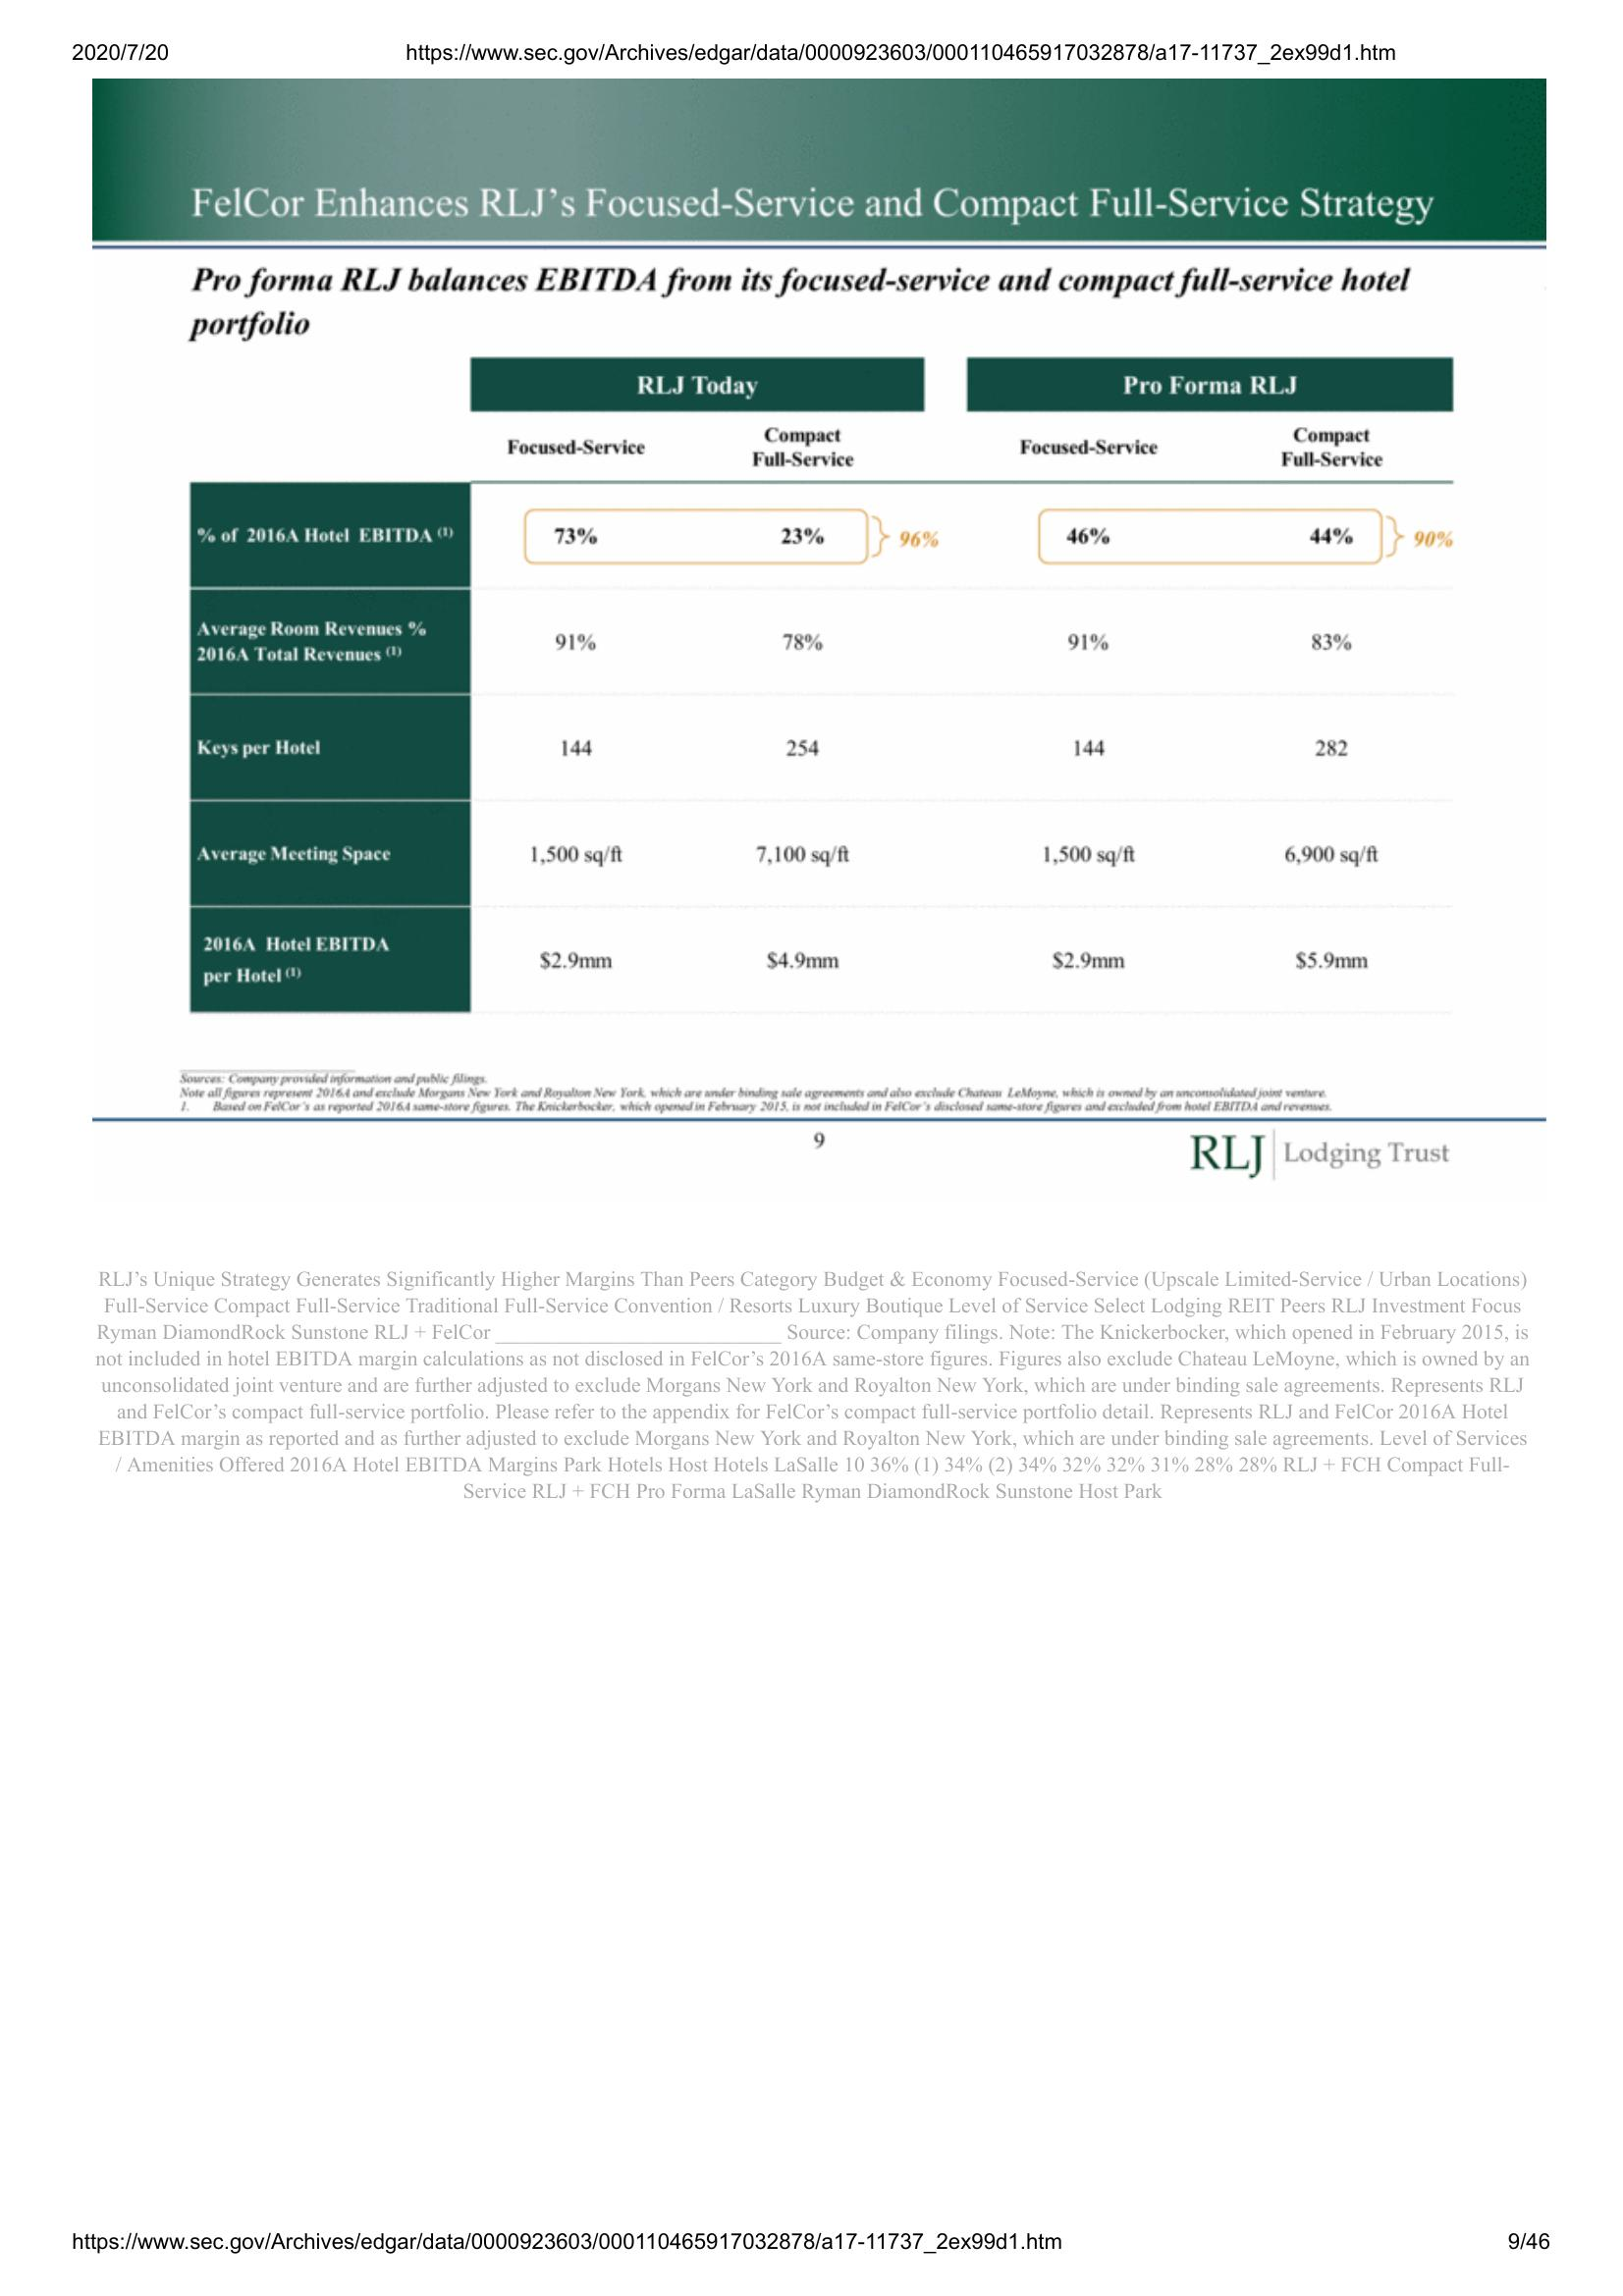table: (184, 348, 1461, 1030)
